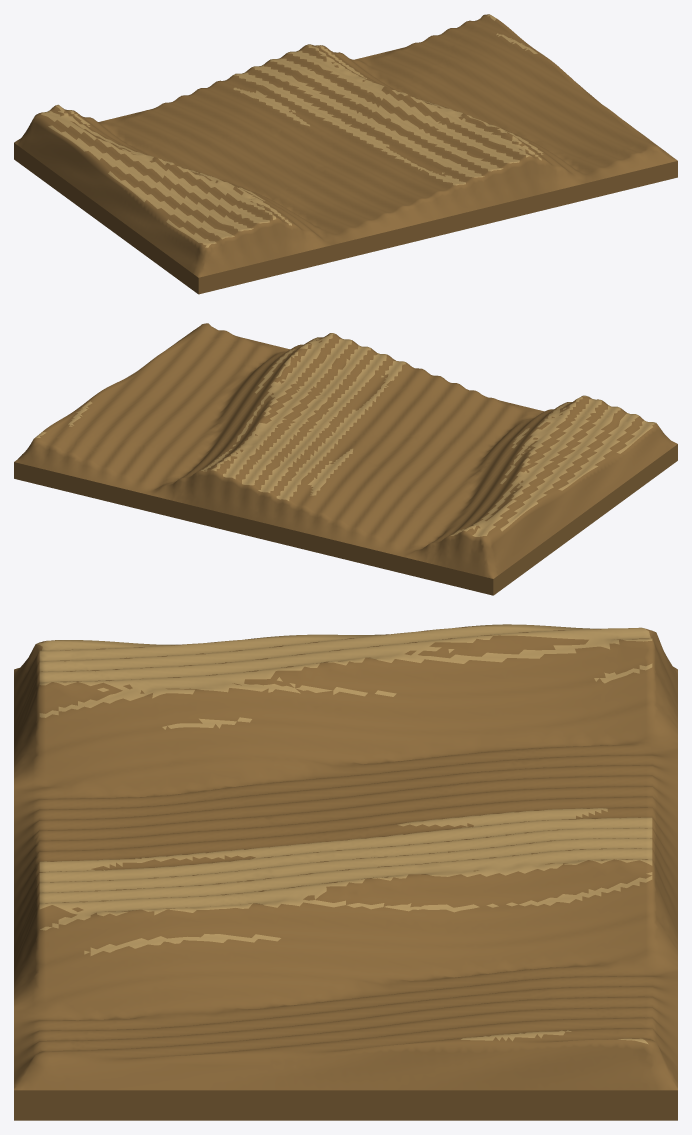
File: terrain_dunes.glb
3 renders of one model, top to bottom at view 1: azimuth 30°, elevation 25°; view 2: azimuth 150°, elevation 25°; view 3: azimuth 270°, elevation 25°, orthographic. The views are drawn at different scales.
Parts seen in each view (by area): view 1: sand; view 2: sand; view 3: sand.
Part boxes in pixels (left/top/right/bottom): sand: left=14, top=14, right=677, bottom=294; sand: left=14, top=323, right=677, bottom=595; sand: left=14, top=624, right=677, bottom=1120.
Size of the model in its own units: 3 by 0.3082 by 2.
